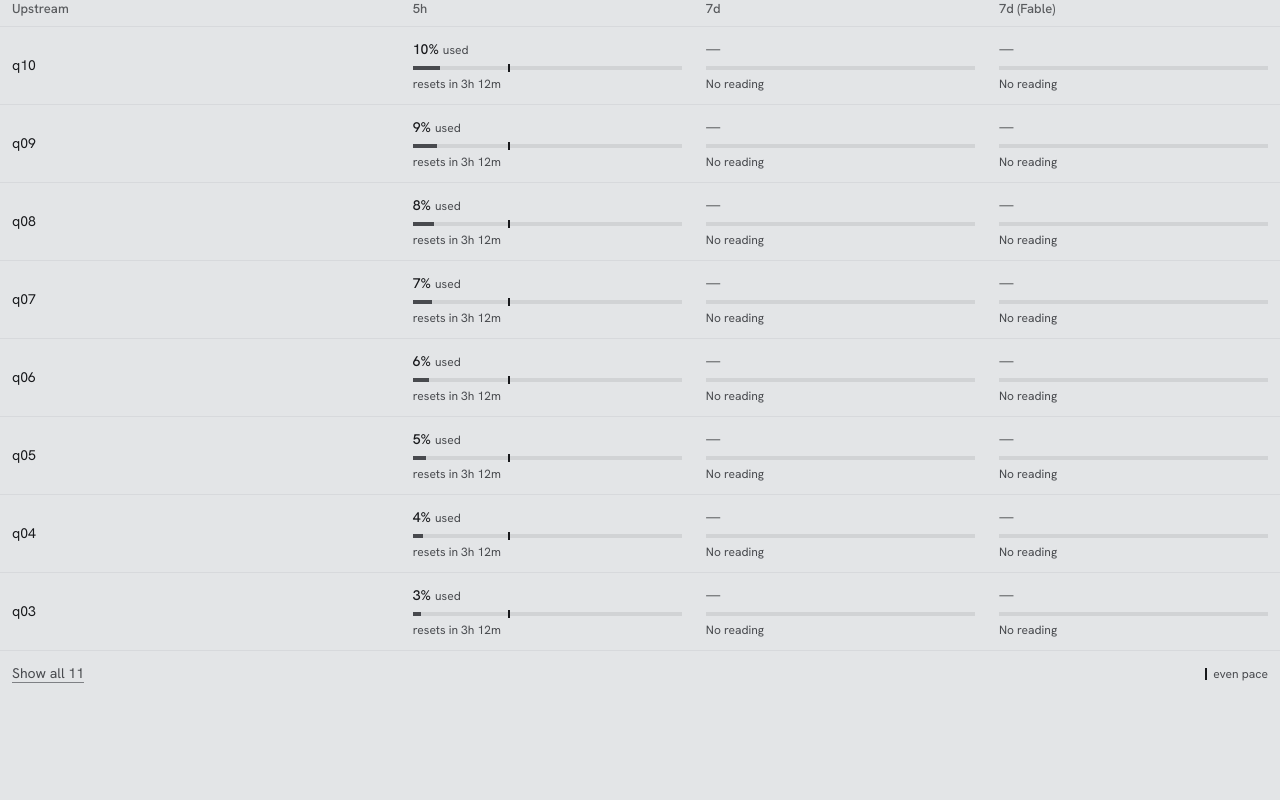
UpstreamUsageTable › shows every row up to the limit, then the rest behind Show all N
Click the button with test id "upstream-usage-toggle": (48, 674) [12, 663, 84, 684]
(page scrolled)
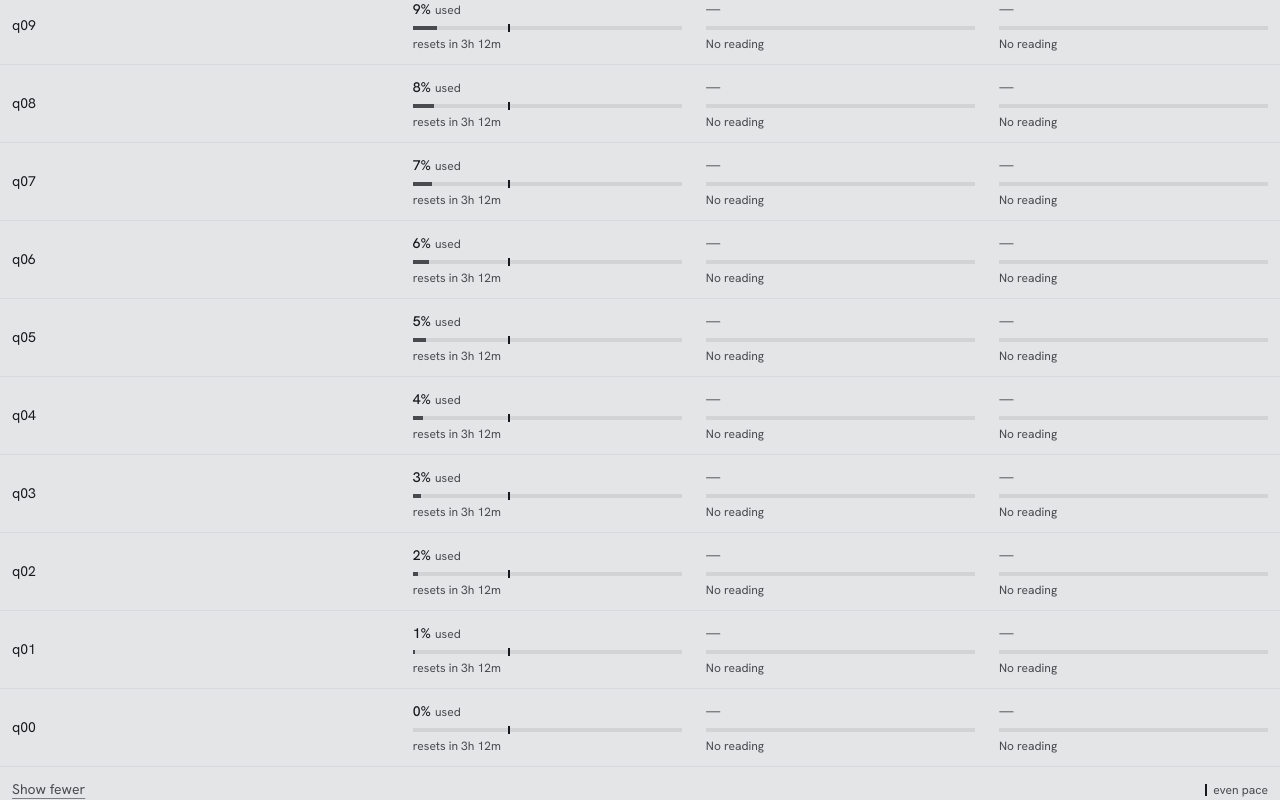
expect the number of elements with test id "upstream-usage-row" is 11: met
expect the button with test id "upstream-usage-toggle" is expanded: met, box [12, 779, 85, 799]
expect the button with test id "upstream-usage-toggle" reads "Show fewer": met, box [12, 779, 85, 799]
